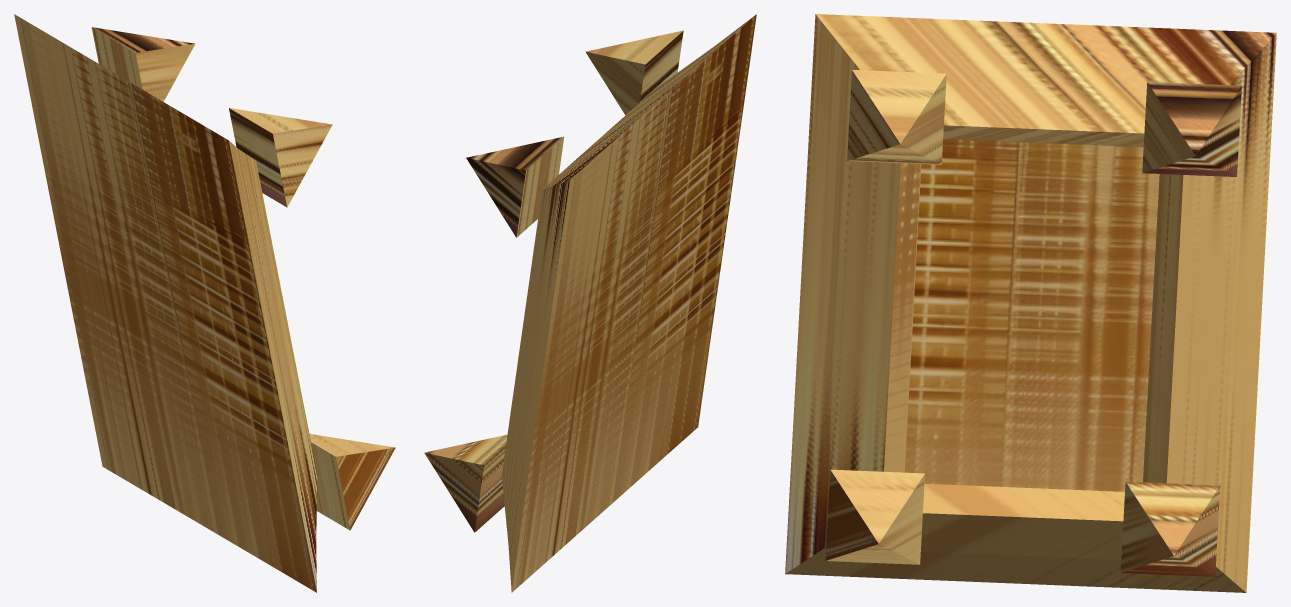
The model's file is portrait_frame.glb.
3 renders of one model, left to right at view 1: azimuth 30°, elevation 25°; view 2: azimuth 150°, elevation 25°; view 3: azimuth 270°, elevation 25°, orthographic. The views are drawn at different scales.
Visible parts, largest first — view 1: PortraitFrame; view 2: PortraitFrame; view 3: PortraitFrame.
Boxes of the visible parts, <box> form: PortraitFrame: <box>14,14,395,592</box>; PortraitFrame: <box>424,14,756,592</box>; PortraitFrame: <box>785,14,1276,592</box>.
Size of the model in its own units: 8.57 by 19.28 by 15.83.
Materials: 1 (1 with a texture image).
